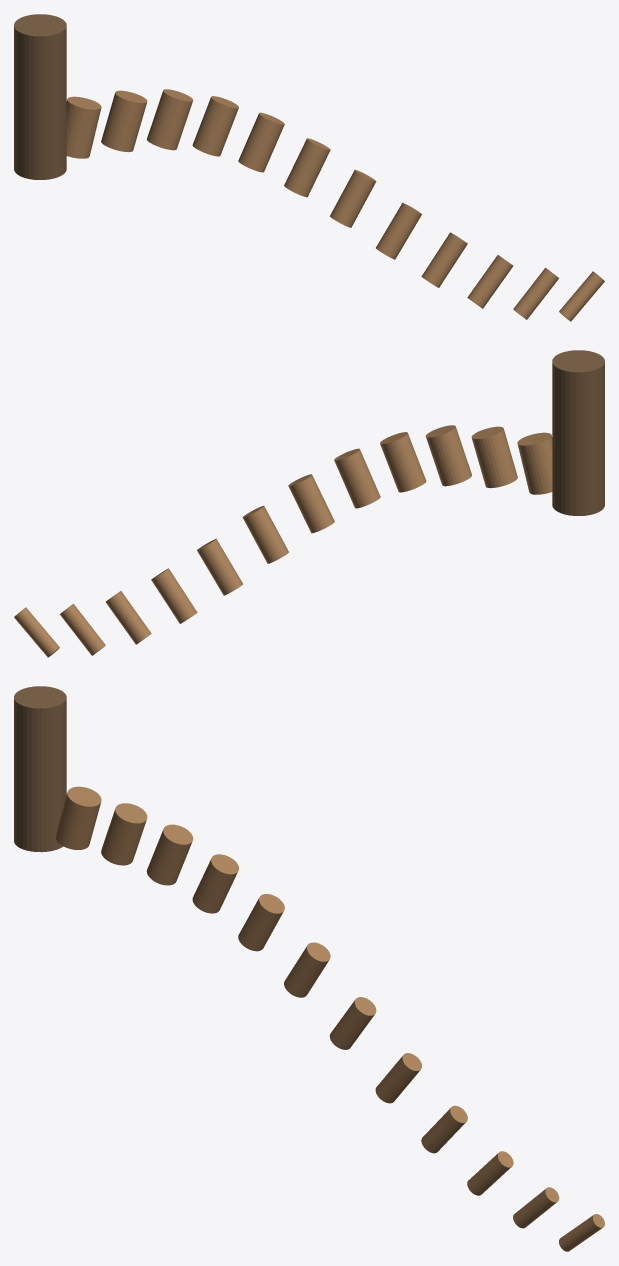
The model's file is whip.glb.
3 renders of one model, top to bottom at view 1: azimuth 30°, elevation 25°; view 2: azimuth 150°, elevation 25°; view 3: azimuth 330°, elevation 25°, orthographic.
Visible parts, largest first — view 1: Handle, Seg1, Seg2, Seg0, Seg3, Seg4, Seg5, Seg6, Seg7, Seg8, Seg9, Seg10 (+1 smaller); view 2: Handle, Seg1, Seg2, Seg0, Seg3, Seg4, Seg5, Seg6, Seg7, Seg8, Seg9, Seg10 (+1 smaller); view 3: Handle, Seg0, Seg1, Seg2, Seg3, Seg4, Seg5, Seg6, Seg7, Seg8, Seg9, Seg10 (+1 smaller).
Part boxes in pixels (x1=…): Handle: x1=14, y1=14, x2=66, y2=179; Seg1: x1=101, y1=90, x2=147, y2=152; Seg2: x1=147, y1=89, x2=193, y2=150; Seg0: x1=66, y1=96, x2=101, y2=158; Seg3: x1=192, y1=96, x2=238, y2=156; Seg4: x1=238, y1=112, x2=284, y2=172; Seg5: x1=284, y1=138, x2=330, y2=197; Seg6: x1=330, y1=169, x2=376, y2=227; Seg7: x1=376, y1=202, x2=421, y2=259; Seg8: x1=421, y1=232, x2=467, y2=287; Seg9: x1=467, y1=255, x2=513, y2=308; Seg10: x1=513, y1=268, x2=558, y2=319; Handle: x1=552, y1=350, x2=604, y2=515; Seg1: x1=471, y1=426, x2=517, y2=488; Seg2: x1=425, y1=425, x2=471, y2=486; Seg0: x1=517, y1=432, x2=552, y2=494; Seg3: x1=380, y1=432, x2=426, y2=492; Seg4: x1=334, y1=448, x2=380, y2=508; Seg5: x1=288, y1=474, x2=334, y2=533; Seg6: x1=242, y1=505, x2=288, y2=563; Seg7: x1=197, y1=538, x2=242, y2=595; Seg8: x1=151, y1=568, x2=197, y2=623; Seg9: x1=105, y1=591, x2=151, y2=644; Seg10: x1=60, y1=604, x2=105, y2=655; Handle: x1=14, y1=686, x2=66, y2=852; Seg0: x1=55, y1=786, x2=101, y2=849; Seg1: x1=101, y1=803, x2=147, y2=865; Seg2: x1=146, y1=824, x2=193, y2=885; Seg3: x1=192, y1=854, x2=238, y2=913; Seg4: x1=238, y1=894, x2=284, y2=951; Seg5: x1=284, y1=942, x2=330, y2=997; Seg6: x1=329, y1=997, x2=376, y2=1049; Seg7: x1=375, y1=1053, x2=421, y2=1103; Seg8: x1=421, y1=1105, x2=467, y2=1153; Seg9: x1=467, y1=1151, x2=513, y2=1195; Seg10: x1=513, y1=1187, x2=559, y2=1228.
Bounding box in the file's own units: 0.7683 × 0.532 × 0.06.
